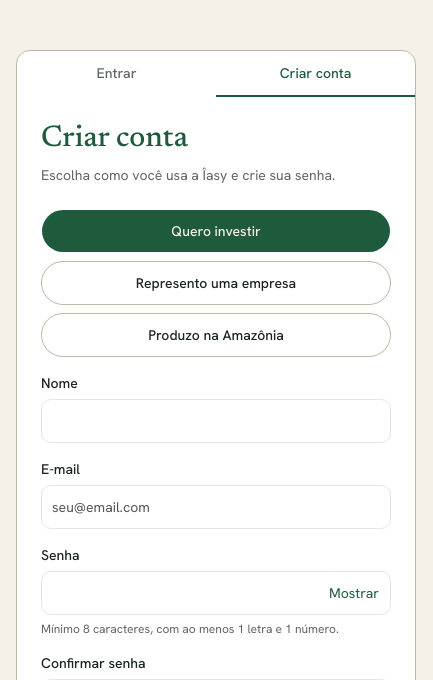
Test case: CadastroForm (AUTH-02) › senha com 7 caracteres mostra o requisito no campo e bloqueia o envio
The width and height of the screenshot is (433, 680).
Type "abc1234" into the password field labelled "Senha" at (216, 593), box [41,571,391,615]
(page scrolled)
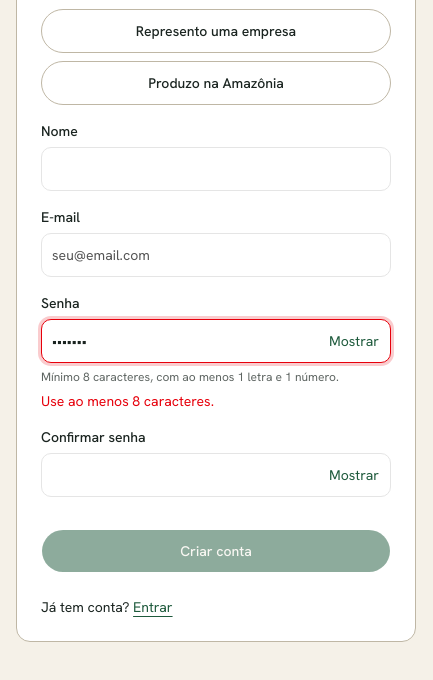
Expected: the button "Criar conta" is disabled, [41,529,391,573]
Expected: the text "Use ao menos 8 caracteres." is shown, [41,392,214,410]
